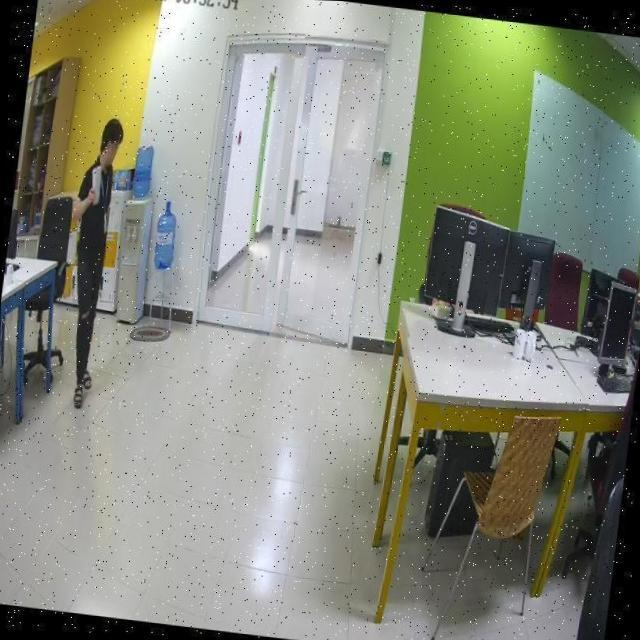person: (54, 116, 129, 408)
